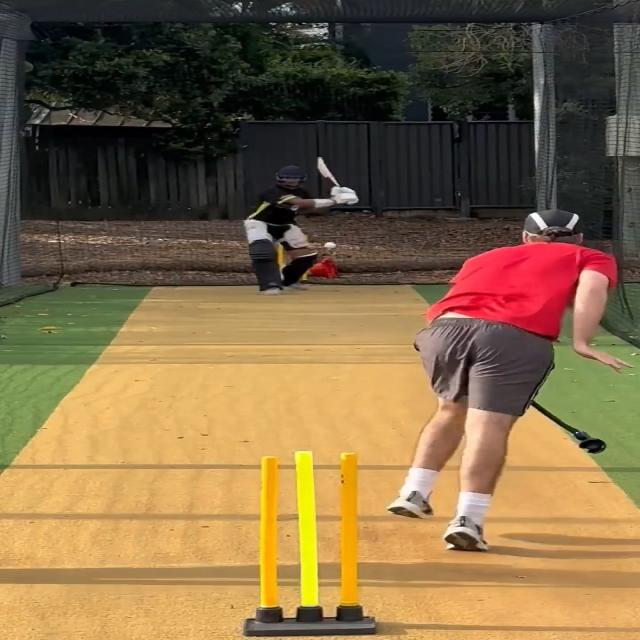ball: (321, 241, 336, 250)
stump: (242, 450, 375, 637)
